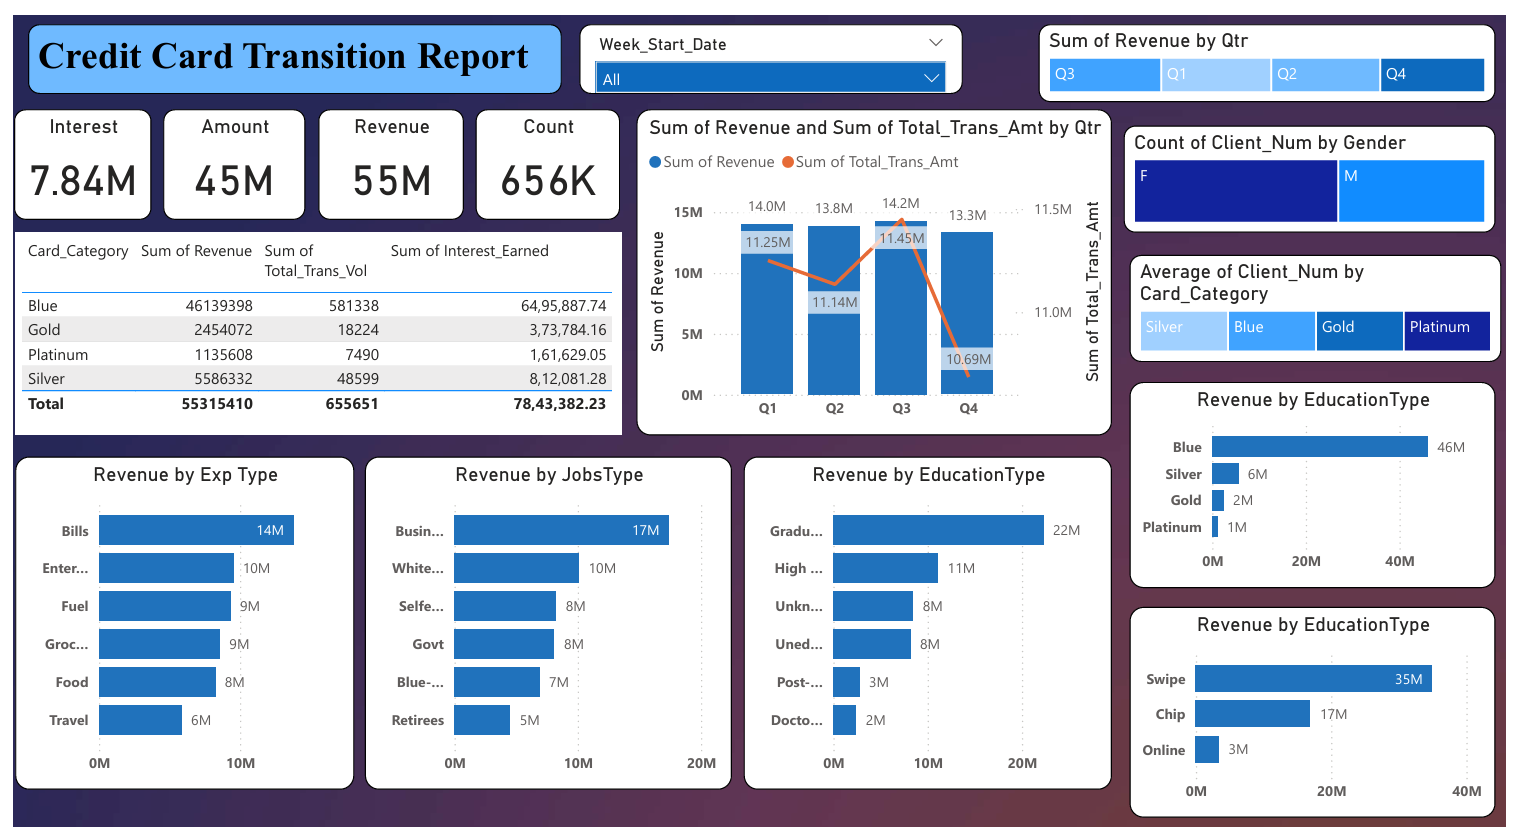

The dashboard page shown, as its layout file describes it:
{"tool":"powerbi","page":{"name":"Page 2","canvas":[1280,720],"ordinal":1},"visuals":[{"type":"textbox","box":[12.4,6.9,458,60.5],"z":0},{"type":"lineStackedColumnComboChart","fields":{"Y":["Sum(credit_card.Revenue)"],"Category":["credit_card.Qtr"],"Y2":["Sum(credit_card.Total_Trans_Amt)"]},"box":[533.6,79.8,408.5,280.6],"z":1000},{"type":"clusteredBarChart","title":"Revenue by Exp Type","fields":{"Y":["Sum(credit_card.Revenue)"],"Category":["credit_card.Exp Type"]},"box":[1.4,378.2,290.2,286.1],"z":2000},{"type":"clusteredBarChart","title":"Revenue by EducationType","fields":{"Y":["Sum(credit_card.Revenue)"],"Category":["customer.Education_Level"]},"box":[625.8,378.2,316.3,286.1],"z":3000},{"type":"clusteredBarChart","title":"Revenue by JobsType","fields":{"Y":["Sum(credit_card.Revenue)"],"Category":["customer.Customer_Job"]},"box":[301.2,378.2,314.9,286.1],"z":4000},{"type":"tableEx","fields":{"Values":["credit_card.Card_Category","Sum(credit_card.Revenue)","Sum(credit_card.Total_Trans_Vol)","Sum(credit_card.Interest_Earned)"]},"box":[1.4,185.7,519.9,174.7],"z":5000},{"type":"card","title":"Revenue","fields":{"Values":["Sum(credit_card.Revenue)"]},"box":[261.3,79.8,125.2,94.9],"z":6000},{"type":"card","title":"Amount","fields":{"Values":["Sum(credit_card.Total_Trans_Amt)"]},"box":[127.9,79.8,122.4,94.9],"z":7000},{"type":"card","title":"Interest","fields":{"Values":["Sum(credit_card.Interest_Earned)"]},"box":[0,79.8,118.3,94.9],"z":8000},{"type":"card","title":"Count","fields":{"Values":["Sum(credit_card.Total_Trans_Vol)"]},"box":[396.1,79.8,123.8,94.9],"z":9000},{"type":"slicer","fields":{"Values":["credit_card.Week_Start_Date"]},"box":[485.5,6.9,328.7,60.5],"z":10000},{"type":"treemap","fields":{"Group":["credit_card.Qtr"],"Values":["Sum(credit_card.Revenue)"]},"box":[878.8,6.9,392,67.4],"z":11000},{"type":"treemap","fields":{"Group":["customer.Gender"],"Values":["CountNonNull(customer.Client_Num)"]},"box":[951.7,93.5,319.1,92.1],"z":12000},{"type":"treemap","fields":{"Values":["Avg(customer.Client_Num)"],"Group":["credit_card.Card_Category"]},"box":[957.2,204.9,319.1,92.1],"z":13000},{"type":"clusteredBarChart","title":"Revenue by EducationType","fields":{"Y":["Sum(credit_card.Revenue)"],"Category":["credit_card.Card_Category"]},"box":[957.2,313.6,313.6,177.4],"z":14000},{"type":"clusteredBarChart","title":"Revenue by EducationType","fields":{"Y":["Sum(credit_card.Revenue)"],"Category":["credit_card.Use Chip"]},"box":[957.2,507.5,313.6,180.2],"z":15000}]}

Visuals, with their boxes in screenshot pixels (x1, y1, x2, y2):
textbox: rect(22, 8, 561, 79)
lineStackedColumnComboChart - Sum(credit_card.Revenue) x credit_card.Qtr: rect(635, 94, 1115, 423)
"Revenue by Exp Type" clusteredBarChart: rect(10, 444, 350, 780)
"Revenue by EducationType" clusteredBarChart: rect(743, 444, 1115, 780)
"Revenue by JobsType" clusteredBarChart: rect(362, 444, 732, 780)
tableEx - credit_card.Card_Category x Sum(credit_card.Revenue): rect(10, 218, 620, 423)
"Revenue" card: rect(315, 94, 462, 205)
"Amount" card: rect(158, 94, 302, 205)
"Interest" card: rect(8, 94, 147, 205)
"Count" card: rect(473, 94, 619, 205)
slicer - credit_card.Week_Start_Date: rect(578, 8, 964, 79)
treemap - credit_card.Qtr x Sum(credit_card.Revenue): rect(1040, 8, 1501, 87)
treemap - customer.Gender x CountNonNull(customer.Client_Num): rect(1126, 110, 1501, 218)
treemap - Avg(customer.Client_Num) x credit_card.Card_Category: rect(1132, 241, 1507, 349)
"Revenue by EducationType" clusteredBarChart: rect(1132, 368, 1501, 577)
"Revenue by EducationType" clusteredBarChart: rect(1132, 596, 1501, 808)
